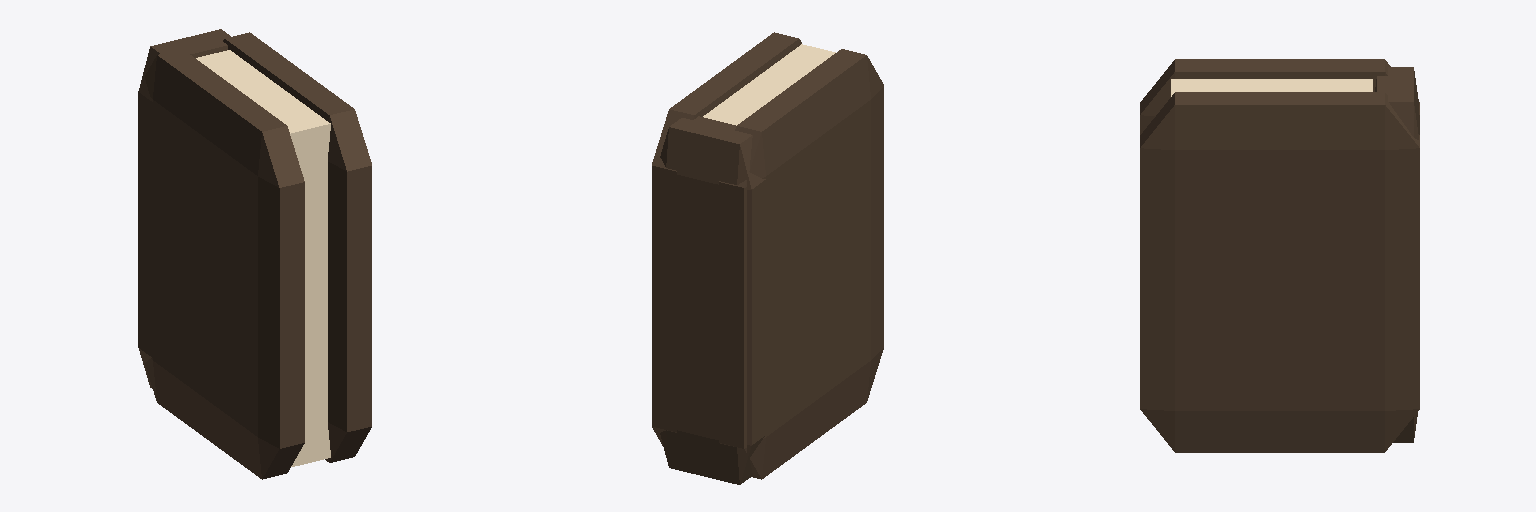
File: Book2.obj
The picture shows the model from 3 angles: view 1: azimuth 30°, elevation 25°; view 2: azimuth 150°, elevation 25°; view 3: azimuth 270°, elevation 25°; orthographic projection.
Parts seen in each view (by area): view 1: mergedBlocks; view 2: mergedBlocks; view 3: mergedBlocks.
Boxes of the visible parts, x1,y1,x2,y2 form: mergedBlocks: [138, 29, 371, 479]; mergedBlocks: [652, 32, 883, 484]; mergedBlocks: [1140, 59, 1419, 452].
Bounding box in the file's own units: 0.09 × 0.2952 × 0.2155.